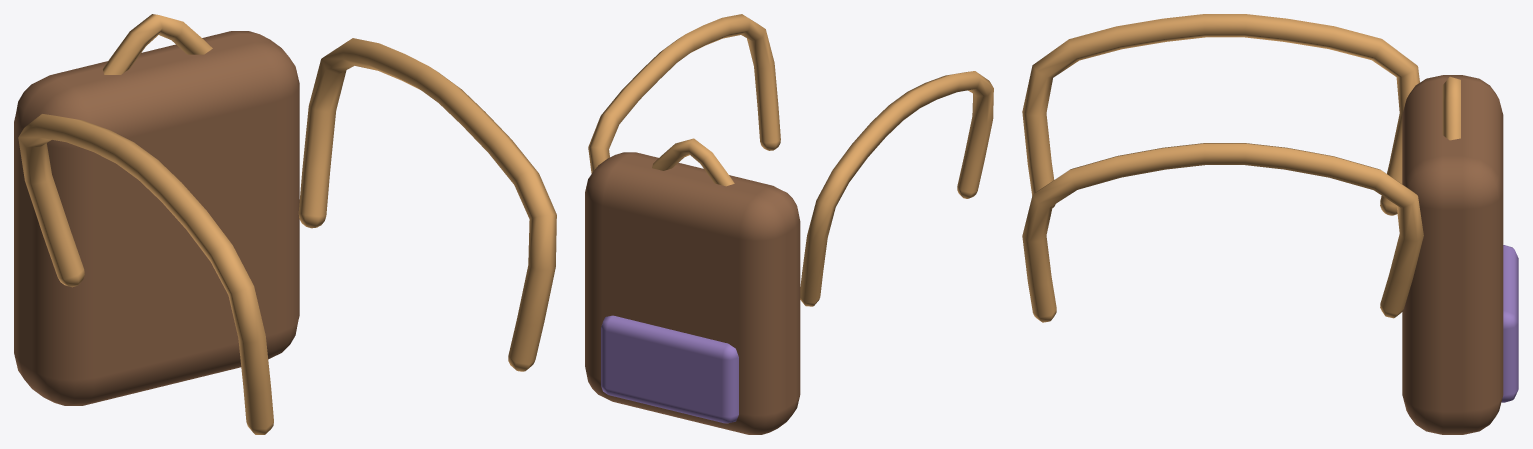
File: grape_harvest_basket.glb
3 views of the same model, side by side, from view 1: azimuth 30°, elevation 25°; view 2: azimuth 150°, elevation 25°; view 3: azimuth 270°, elevation 25° (orthographic). The views are drawn at different scales.
Parts seen in each view (by area): view 1: grape_harvest_basket_Body; view 2: grape_harvest_basket_Body; view 3: grape_harvest_basket_Body.
Part boxes in pixels (box(x1,y1,x2,y2)): grape_harvest_basket_Body: box(14, 14, 556, 434); grape_harvest_basket_Body: box(585, 14, 993, 434); grape_harvest_basket_Body: box(1022, 14, 1518, 434).
Size of the model in its own units: 0.327 by 0.3445 by 0.4902.
